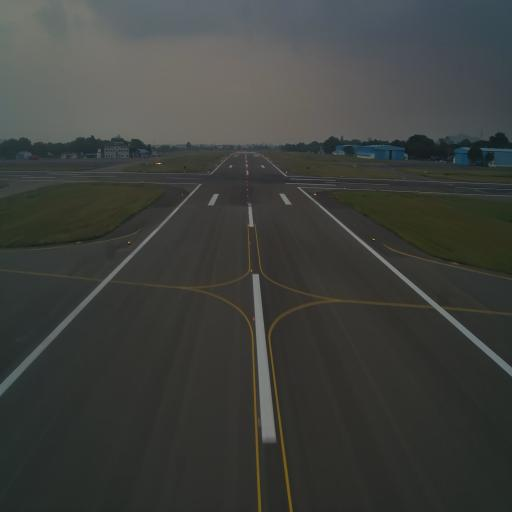on: (256, 415, 262, 428), (251, 316, 256, 323), (127, 239, 130, 247), (372, 236, 375, 241), (250, 267, 252, 274)
